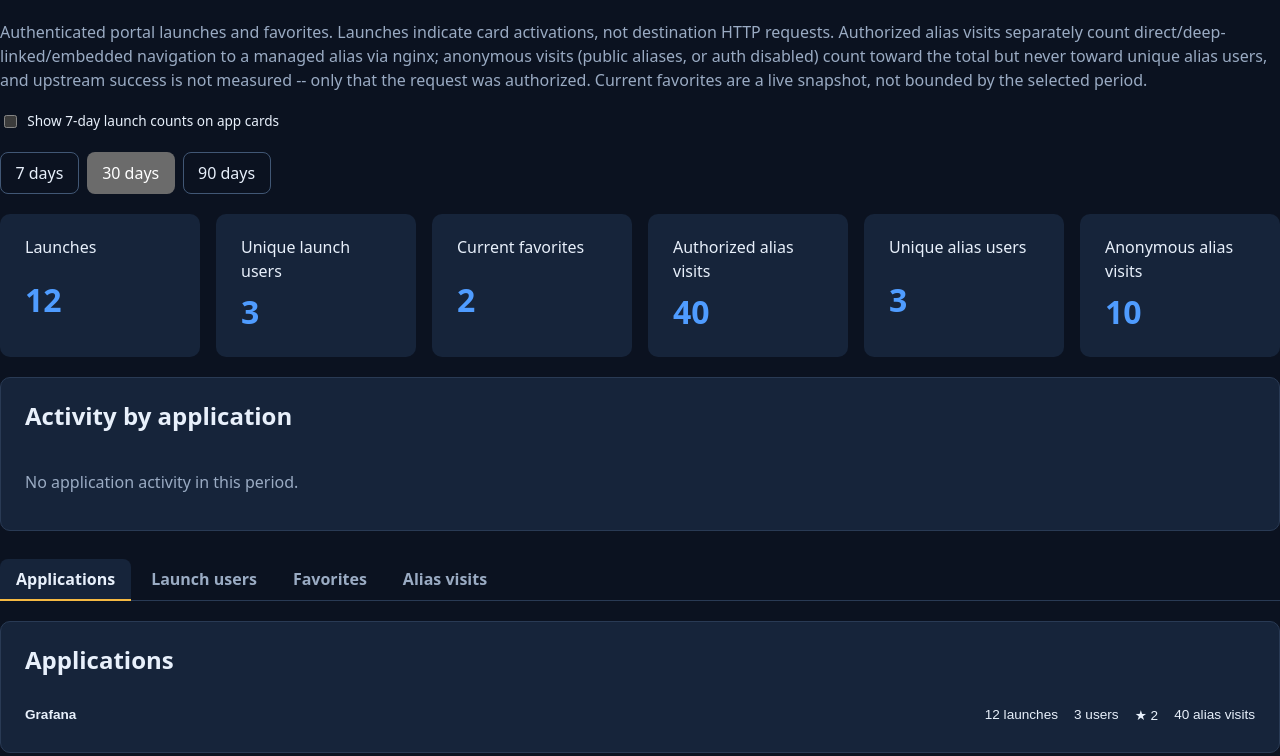
AppStatisticsView › shows all six KPI cards in one row and clicking one selects its tab
Expected: the text "Launches" is shown, [25,236,96,258]
Expected: the text "Unique launch users" is shown, [241,236,350,282]
Click the button with aria-label "show current favorites details" at (532, 285), box [432,214,632,357]
(page scrolled)
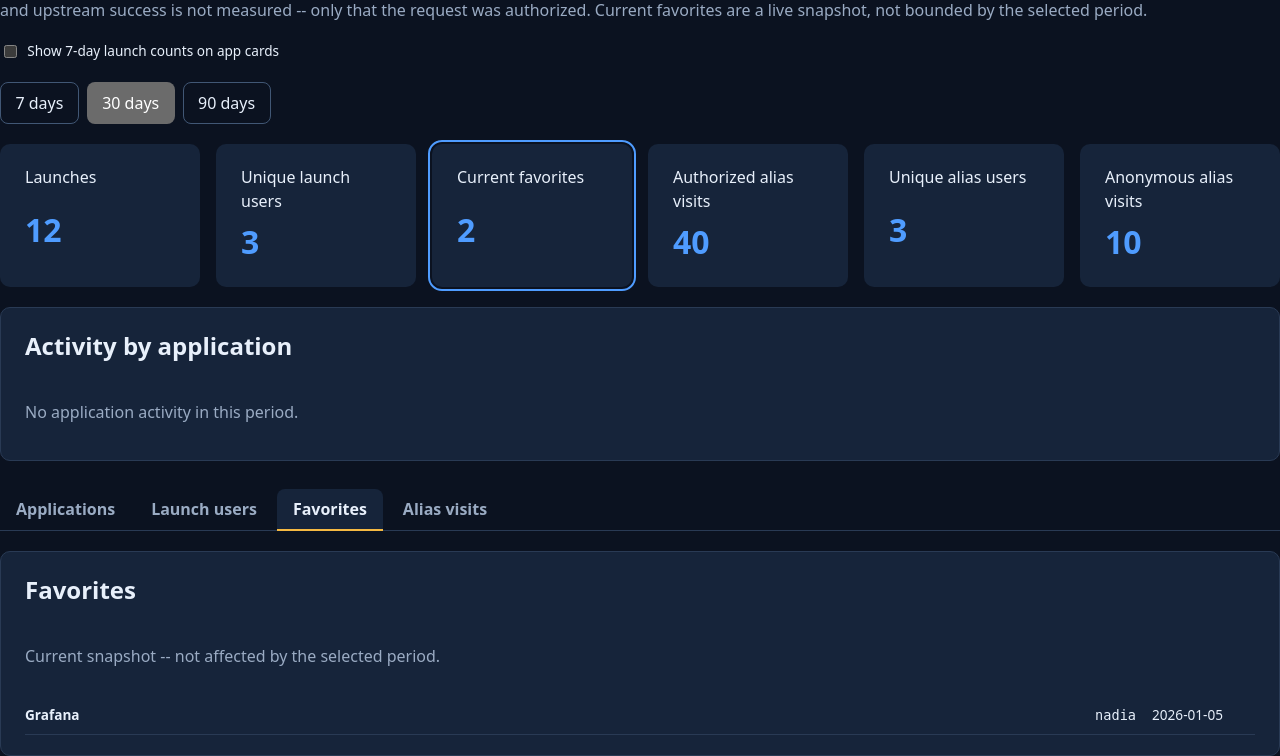
Expected: the text "nadia" is shown, [1095,707,1136,723]
